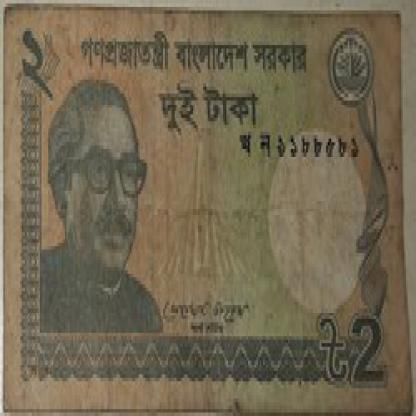two taka: (13, 24, 72, 118), (346, 302, 396, 402)
